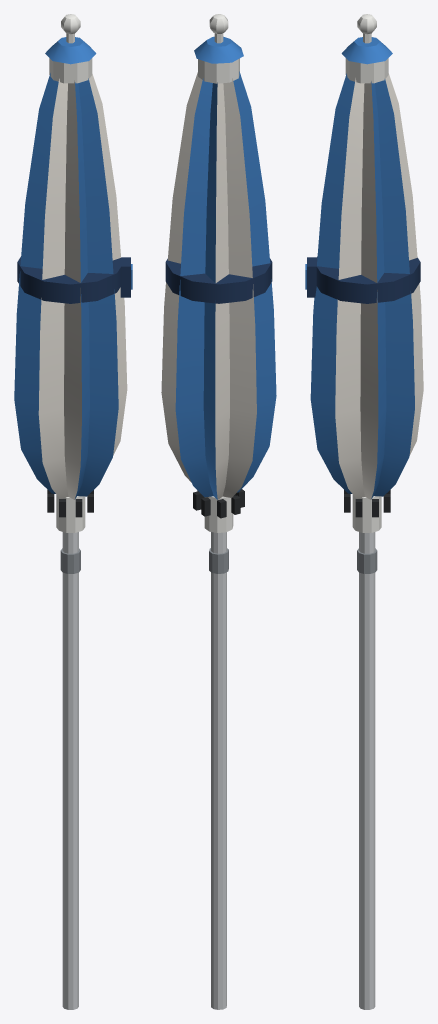
File: SC_Ter_Parasol_Closed_Lager.gltf
3 views of the same model, side by side, from view 1: azimuth 90°, elevation 25°; view 2: azimuth 210°, elevation 25°; view 3: azimuth 270°, elevation 25° (orthographic).
Visible parts, largest first — view 1: SC_Ter_Parasol_Closed_Lager; view 2: SC_Ter_Parasol_Closed_Lager; view 3: SC_Ter_Parasol_Closed_Lager.
Part boxes in pixels (x1,y1,x2,y2): SC_Ter_Parasol_Closed_Lager: (14, 14, 132, 1009); SC_Ter_Parasol_Closed_Lager: (161, 14, 276, 1009); SC_Ter_Parasol_Closed_Lager: (305, 14, 423, 1009).
Bounding box in the file's own units: 0.2629 × 2.54 × 0.2754.
1 material, 1 textured.
